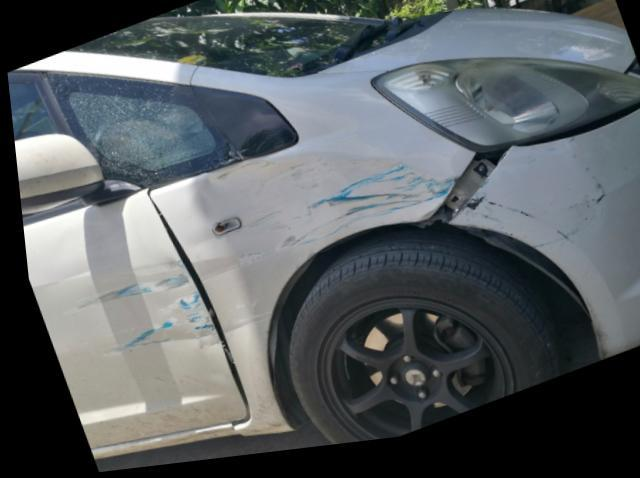dent: (190, 161, 443, 364)
dislocated part: (421, 118, 640, 376)
glass shatter: (43, 73, 240, 191)
scratch: (60, 257, 213, 368), (452, 193, 608, 264)
